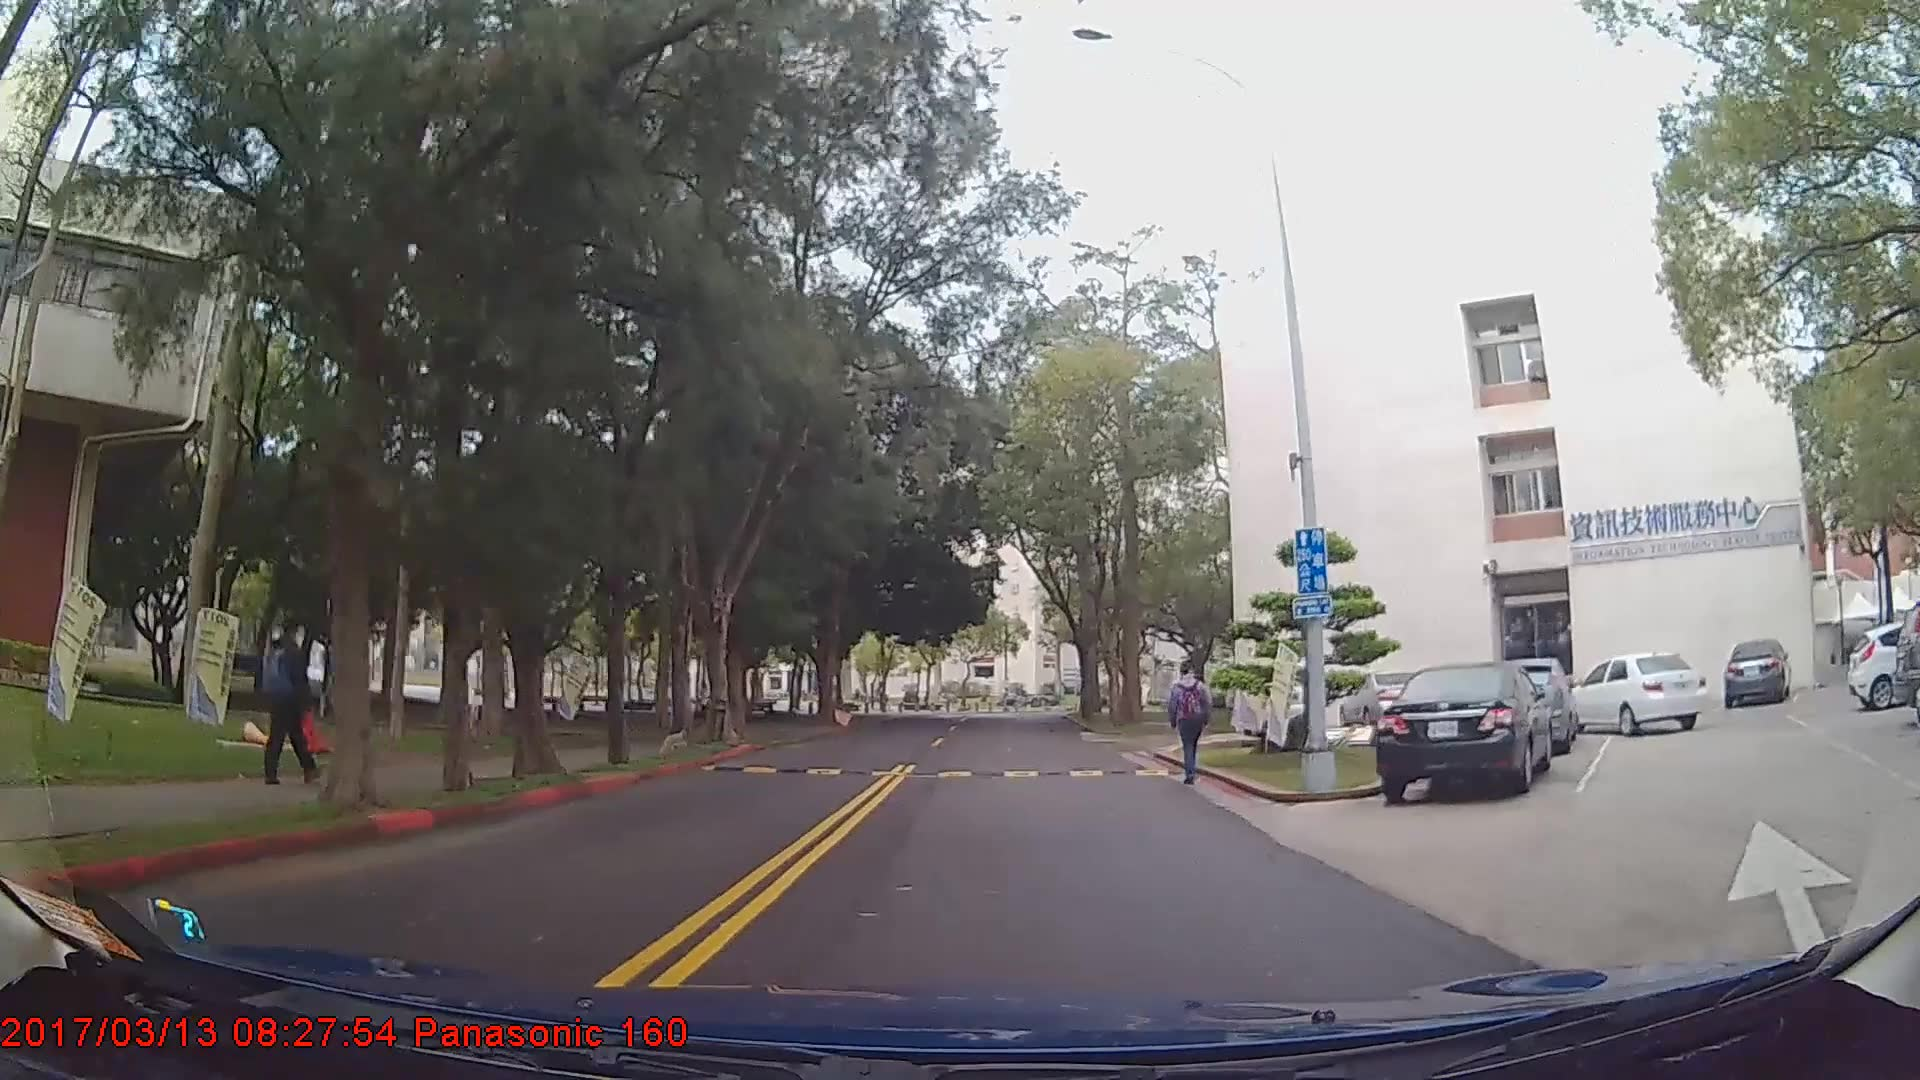pedestrian: (261, 611, 329, 790), (1167, 659, 1217, 786)
vehicle: (1375, 661, 1554, 805), (1568, 651, 1706, 738), (1845, 619, 1920, 711), (1722, 635, 1785, 709)
